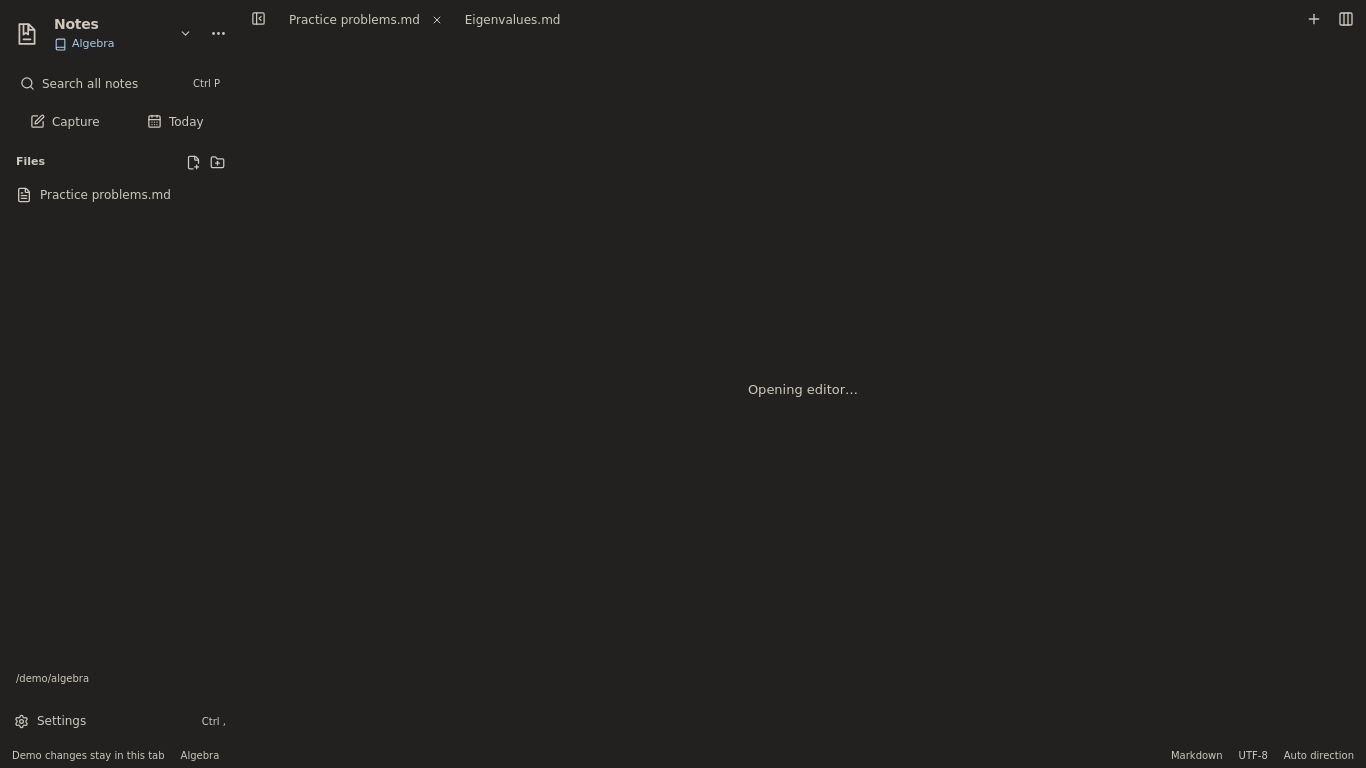
Test: keeps one command listener across modal commits and uses the committed modal to block mutations
Step 1. Press k
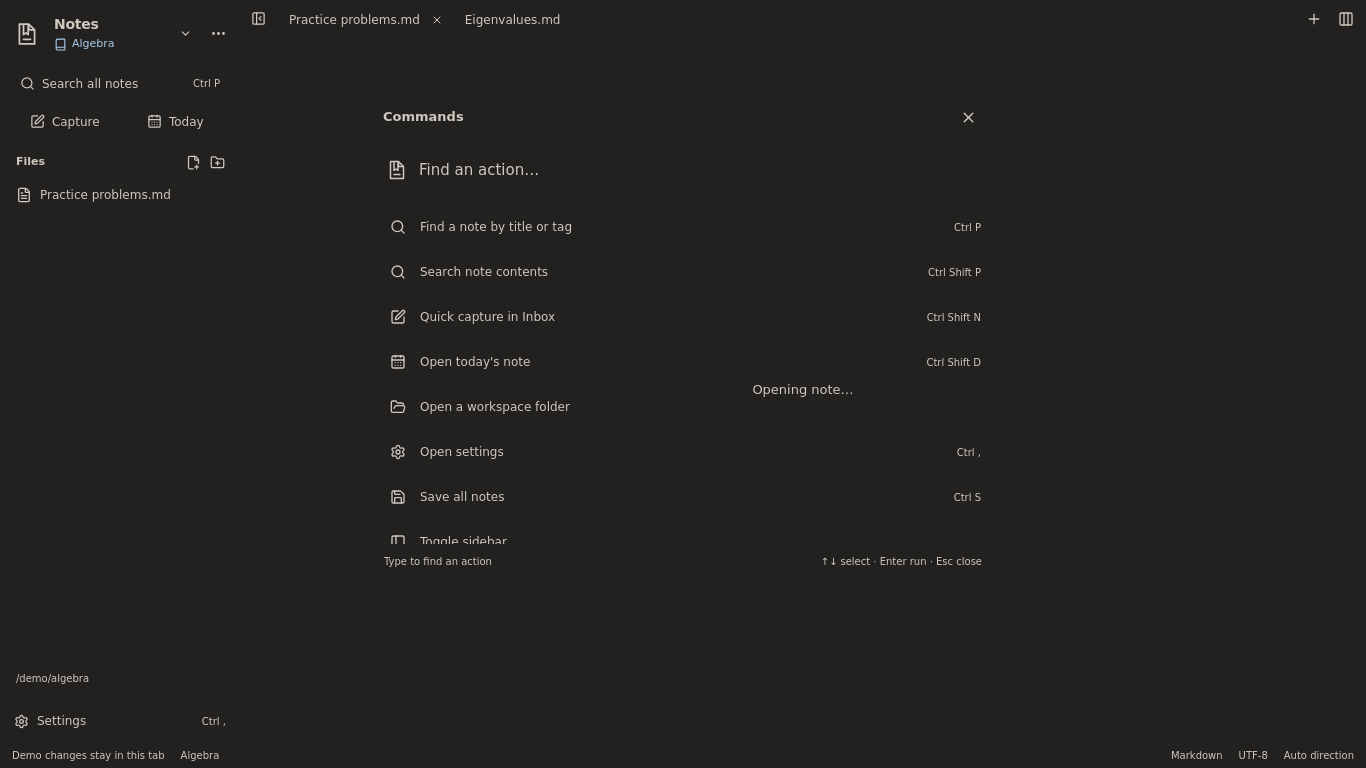
Result: the dialog "Commands" is shown at top-left (368, 92), bottom-right (998, 579)
Result: the option "Find a note by title or tag Ctrl P" is shown at top-left (374, 205), bottom-right (992, 250)
Step 2. Press n
Step 3. Click the button named "Close dialog" → (968, 117), box top-left (954, 103), bottom-right (983, 131)
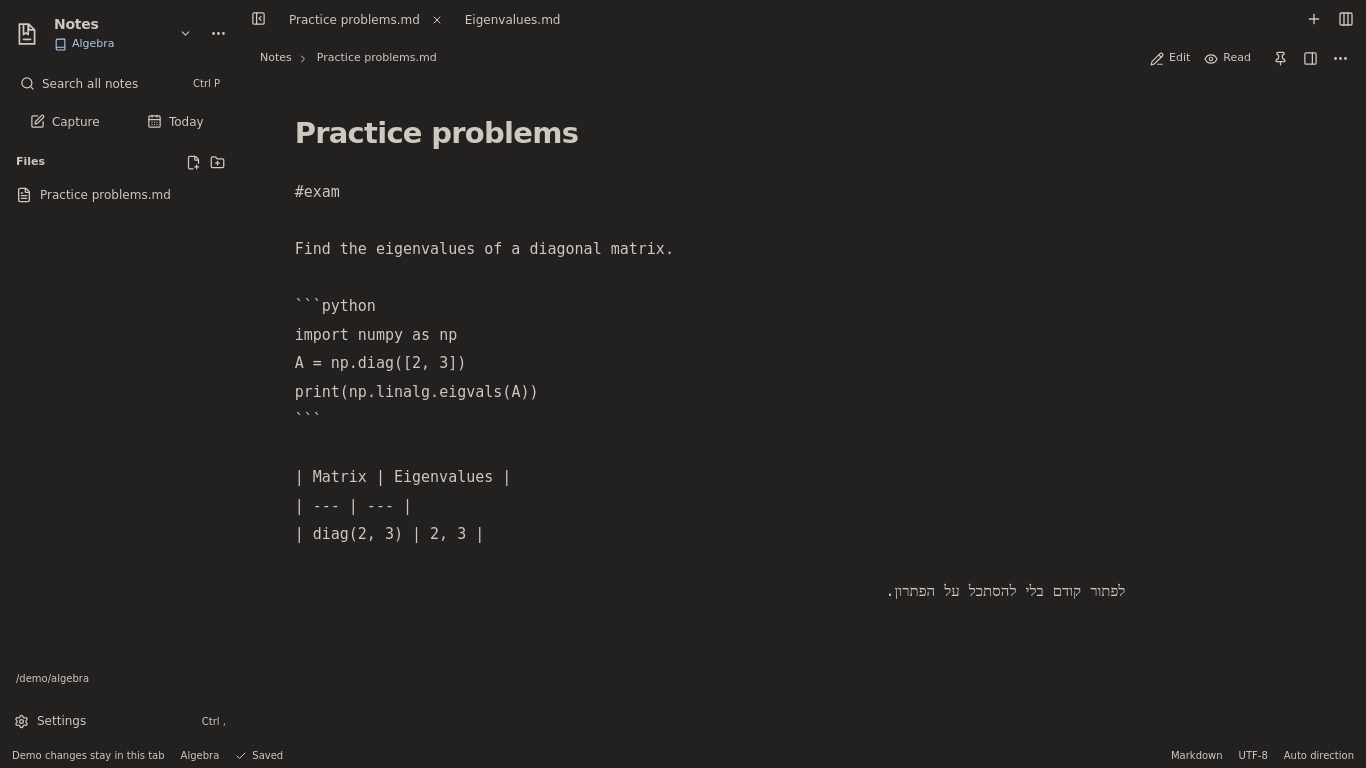
Result: the dialog is gone
